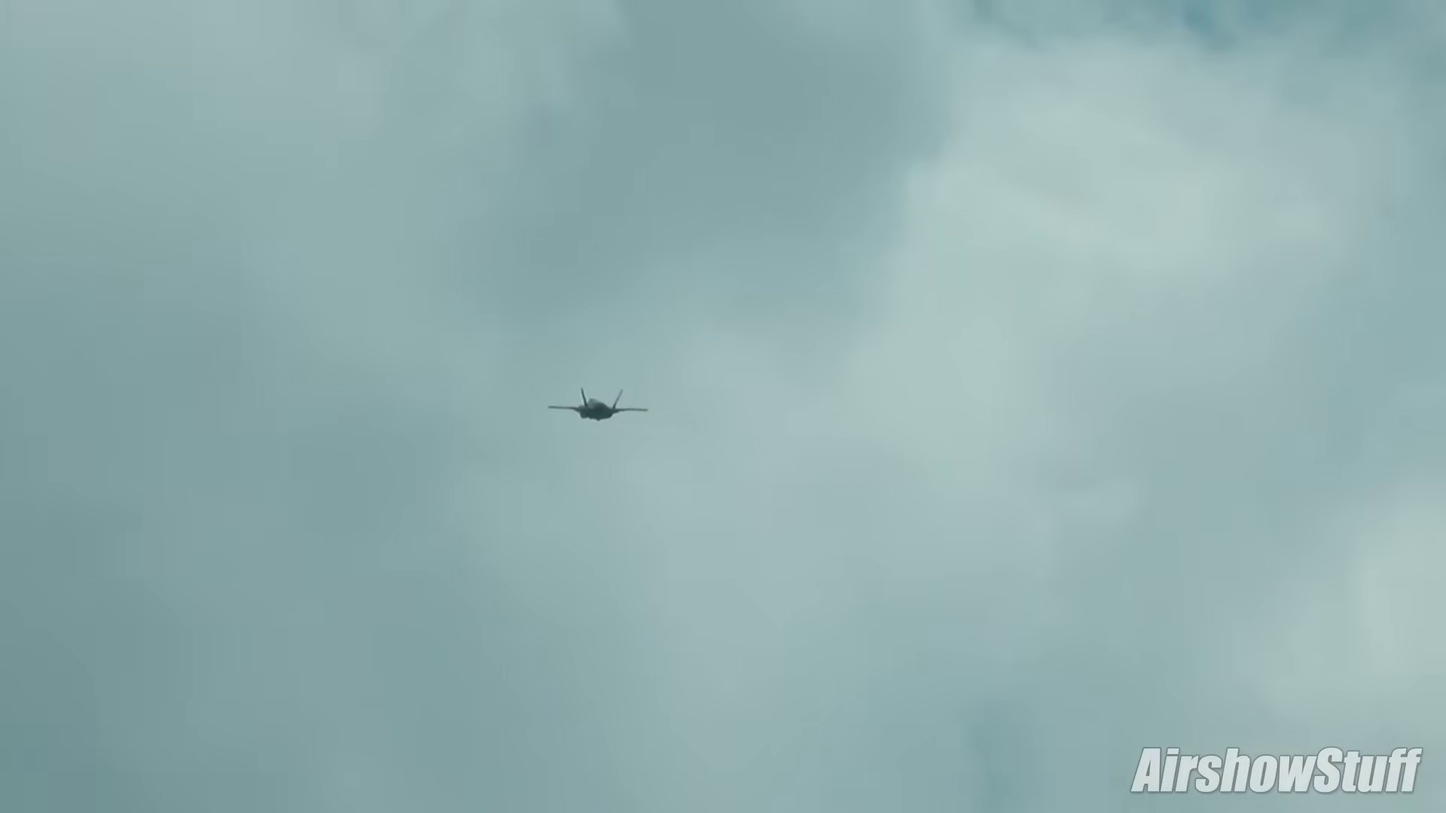F35: (538, 377, 651, 435)
